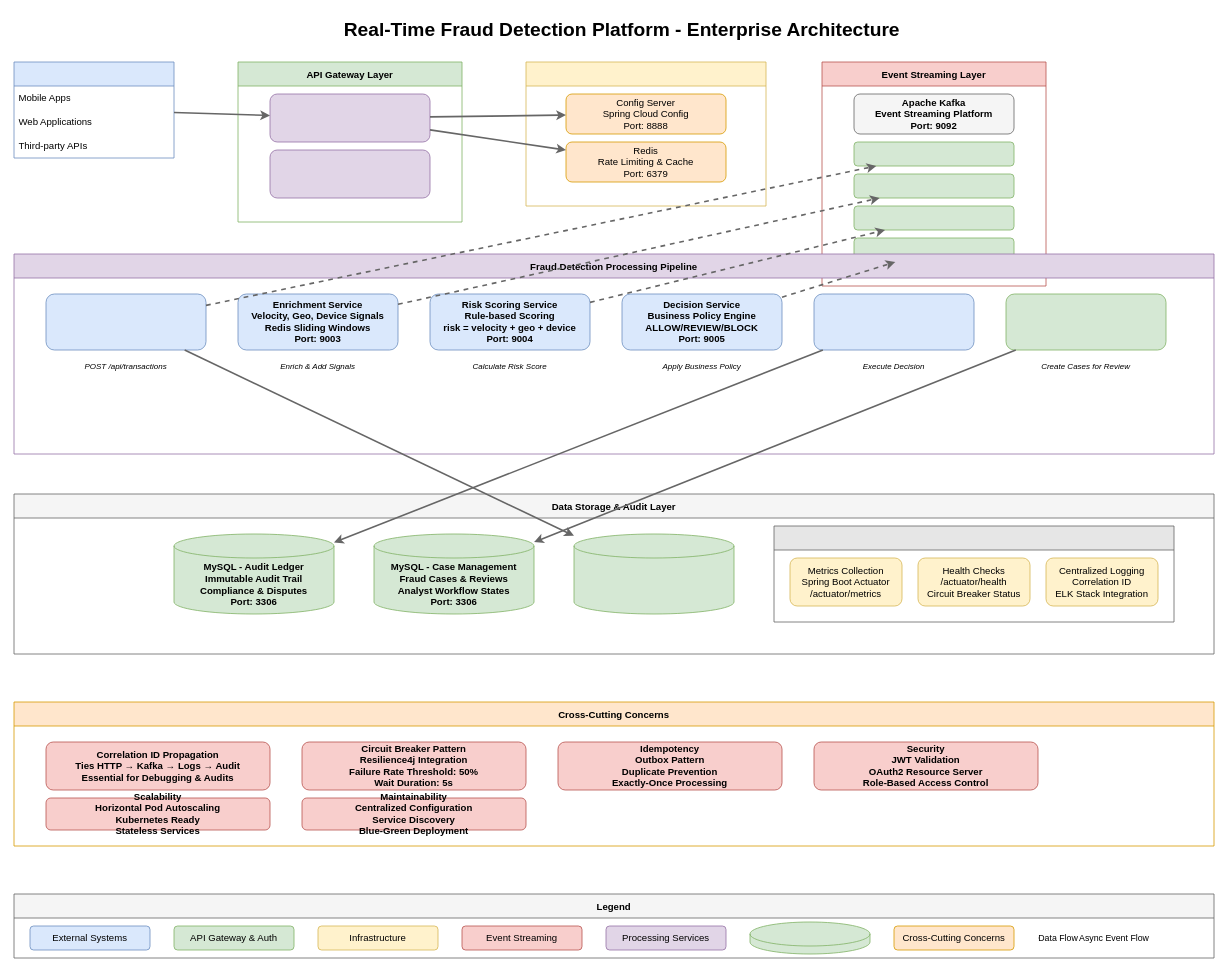
This 1228x972 diagram has some shape labels left out. Each missing label, with the box of its shape:
Action Service Decision Execution Approve/Reject/Case Port: 9006: (813, 293, 974, 350)
Alert & Case Management Human-in-the-Loop Review Analyst Workflow Port: 9007: (1005, 293, 1166, 350)
API Gateway Spring Cloud Gateway Port: 9000: (269, 93, 430, 142)
Auth Service OAuth2/JWT Port: 9001: (269, 149, 430, 198)
Data Storage: (749, 921, 870, 954)
External Clients: (13, 61, 174, 158)
Infrastructure & Configuration: (525, 61, 766, 206)
Monitoring & Observability: (773, 525, 1174, 622)
MySQL - Transactions Transaction Records Idempotency Keys Port: 3306: (573, 533, 734, 614)
Transaction Ingestion Service Idempotency & Outbox Pattern Port: 9002: (45, 293, 206, 350)
transactions.decisioned: (853, 237, 1014, 262)
transactions.enriched: (853, 173, 1014, 198)
transactions.raw: (853, 141, 1014, 166)
transactions.scored: (853, 205, 1014, 230)
